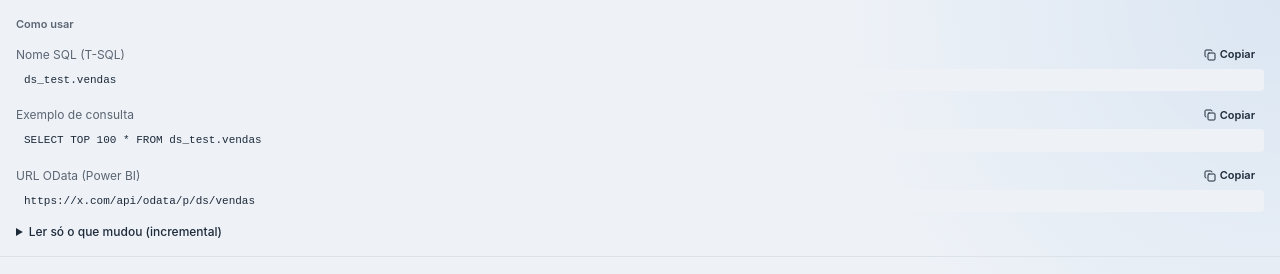
Test case: UsageBlock › copiar coloca o valor na área de transferência e confirma
The width and height of the screenshot is (1280, 274).
Click the button with aria-label "Copiar Nome SQL (T-SQL)" at [1229, 54], box [1195,42,1264,66]
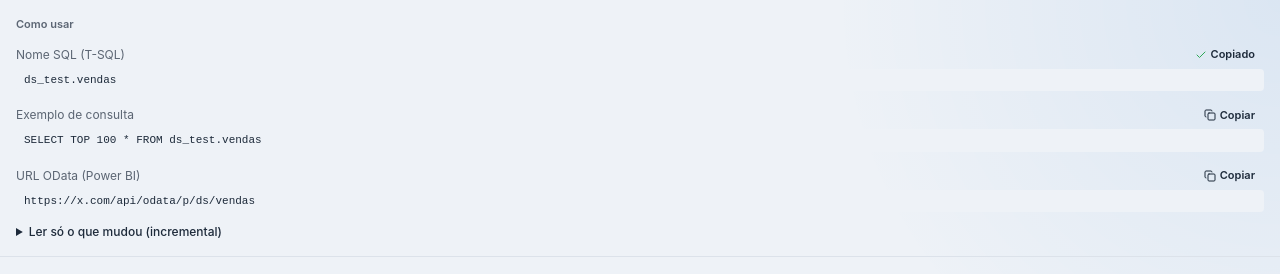
Now the text "Copiado" is shown, box [1211,47,1255,62]
